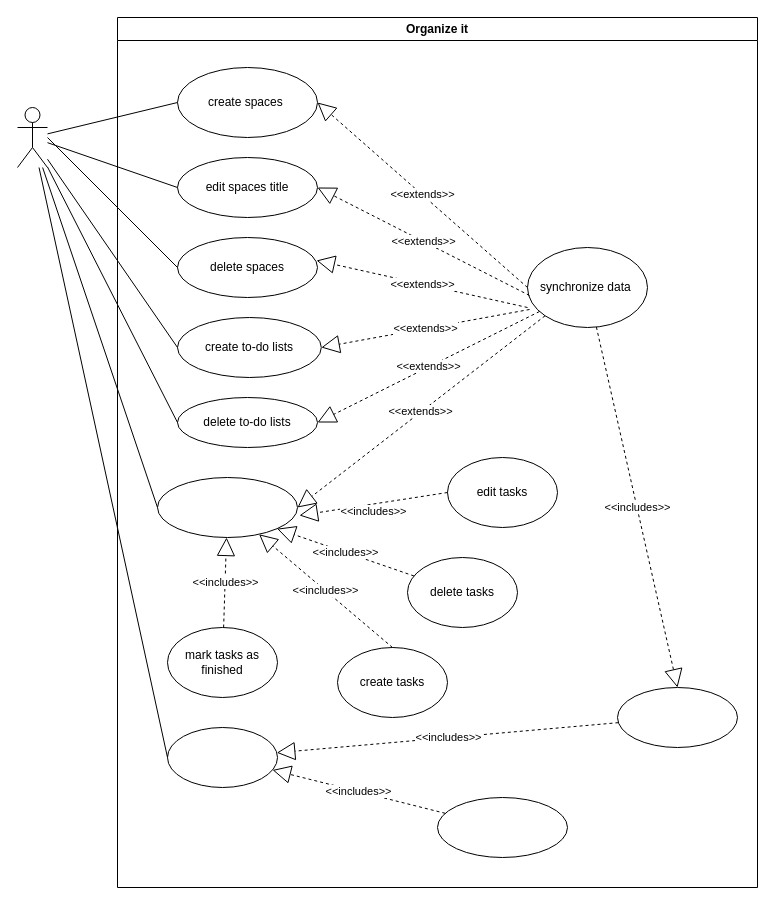
Image size: 775x905. Some labels were removed from this diagram. Each missing label, with the centre of its shape:
edit to-do lists: (227,507)
generate default space: (502,827)
Login: (677,717)
Register: (222,757)
User: (32,137)
